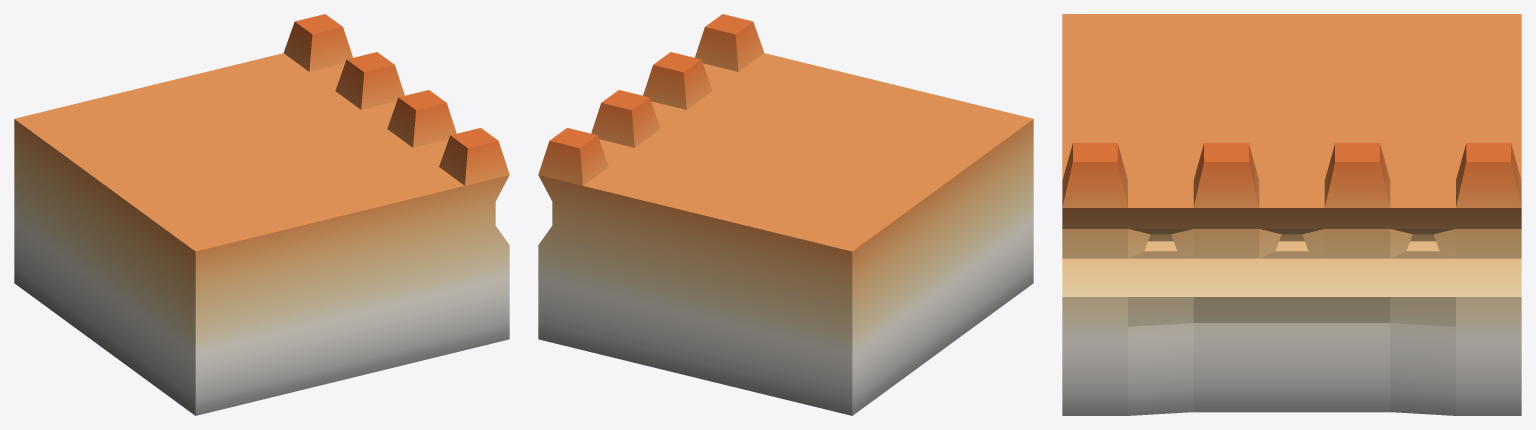
File: sFort4.001.fbx
3 views of the same model, side by side, from view 1: azimuth 30°, elevation 25°; view 2: azimuth 150°, elevation 25°; view 3: azimuth 270°, elevation 25° (orthographic). The views are drawn at different scales.
Visible parts, largest first — view 1: sFort4.001; view 2: sFort4.001; view 3: sFort4.001.
Part boxes in pixels (<box>): sFort4.001: <box>14,14,509,415</box>; sFort4.001: <box>538,14,1033,415</box>; sFort4.001: <box>1062,14,1521,415</box>.
Size of the model in its own units: 100 by 60 by 100.
